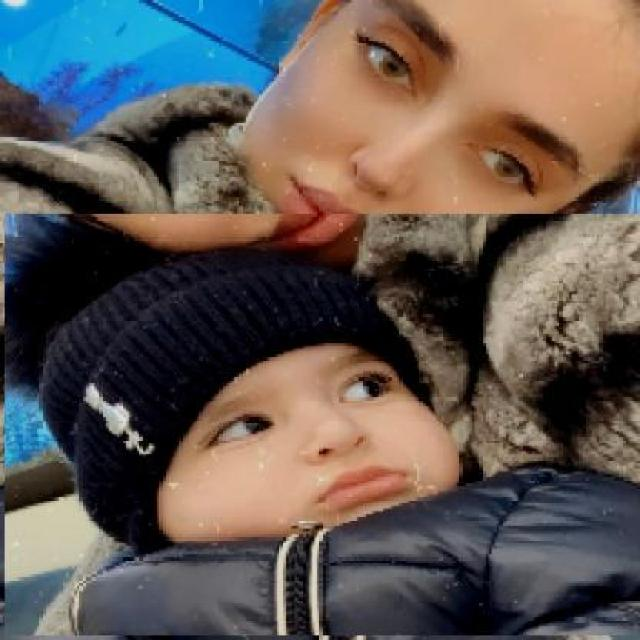child: (3, 214, 640, 637)
